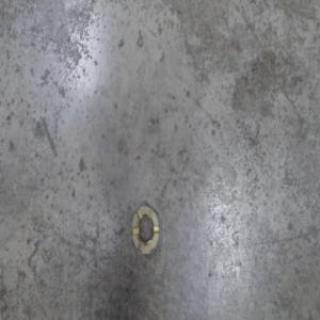Nuttrack_idkeyframe: (129, 198, 160, 257)
